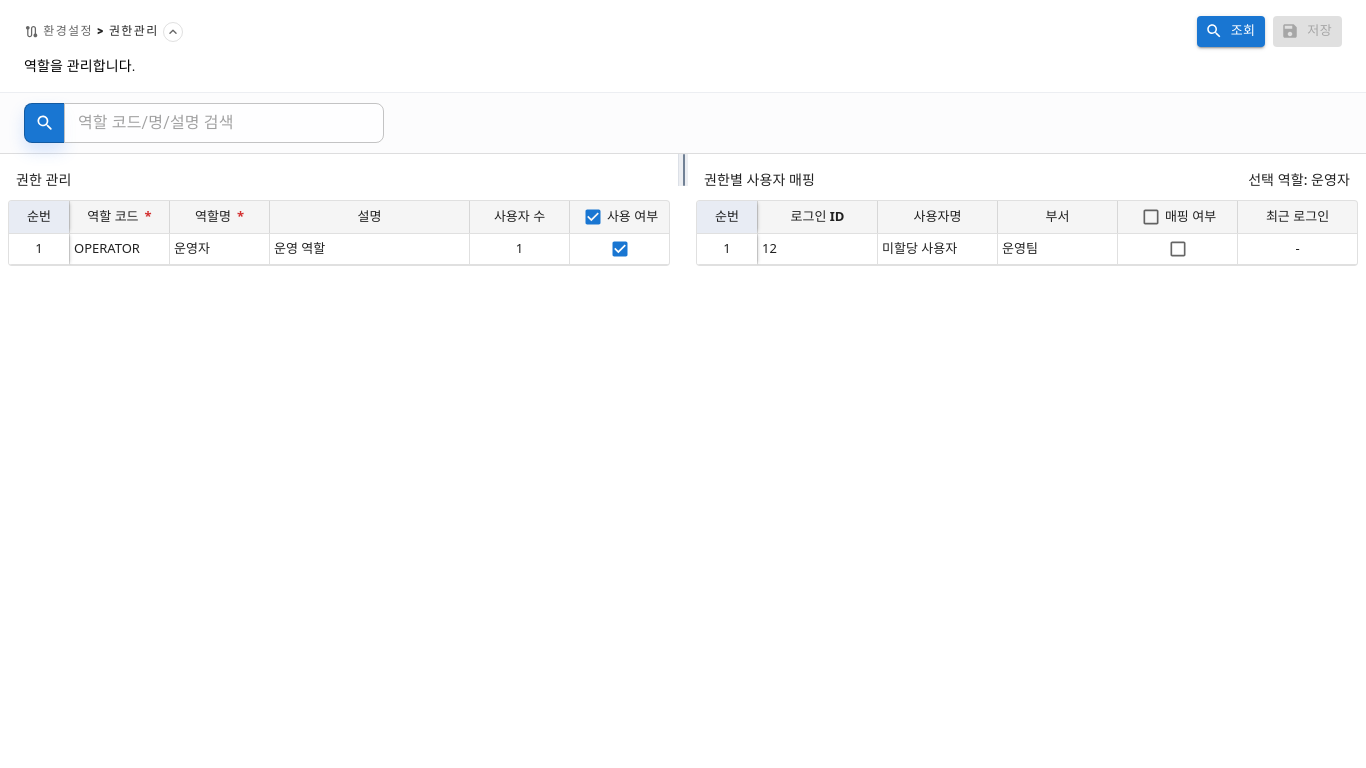
Test case: RoleManagementPage notifications › updates the role user count after a mapping save without showing a skeleton
Expected: the table named "F1-GRID 사용자 매핑" is shown, [696, 200, 1358, 266]
Double-click the cell "미할당 사용자" at (937, 249), box [877, 233, 997, 265]
Click the checkbox named "매핑 여부 12" at (1178, 249), box [1168, 239, 1188, 259]
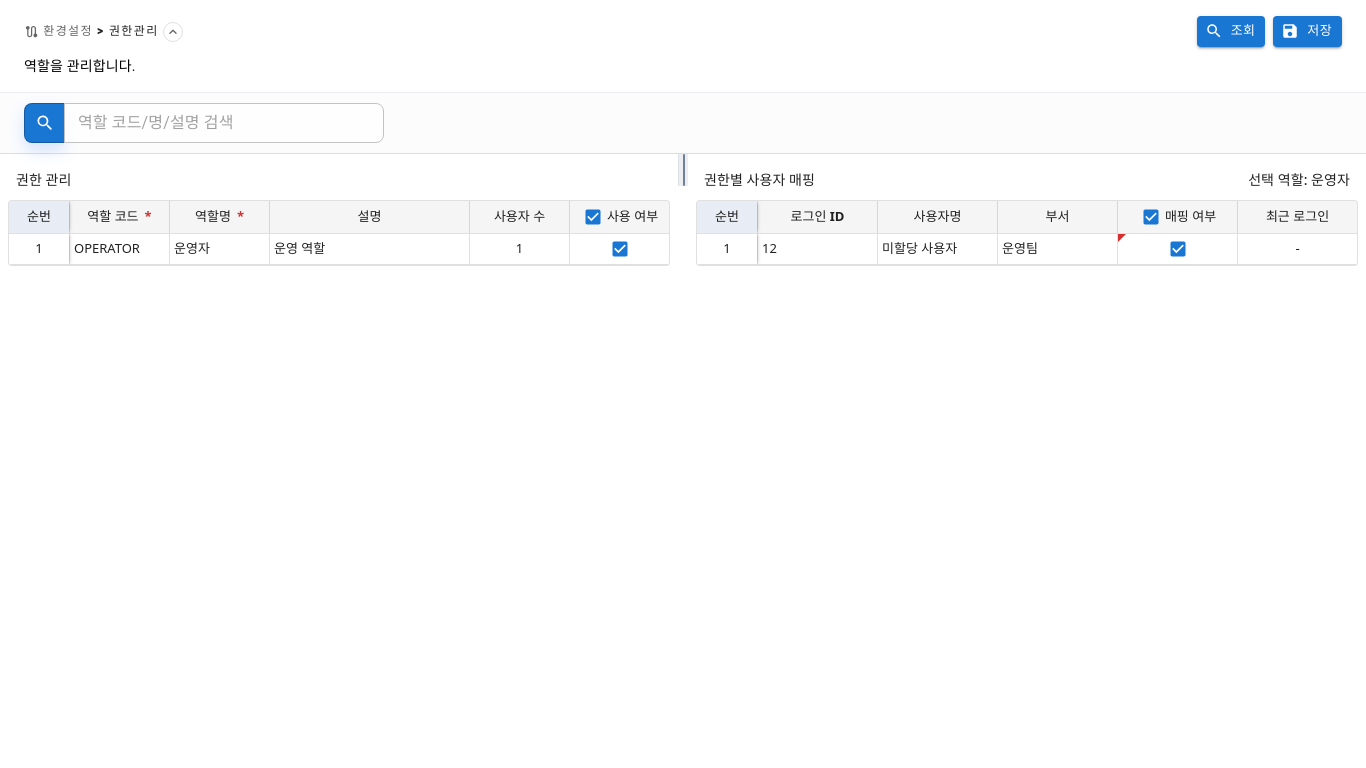
Click the button "저장" at (1308, 31), box [1273, 16, 1342, 47]
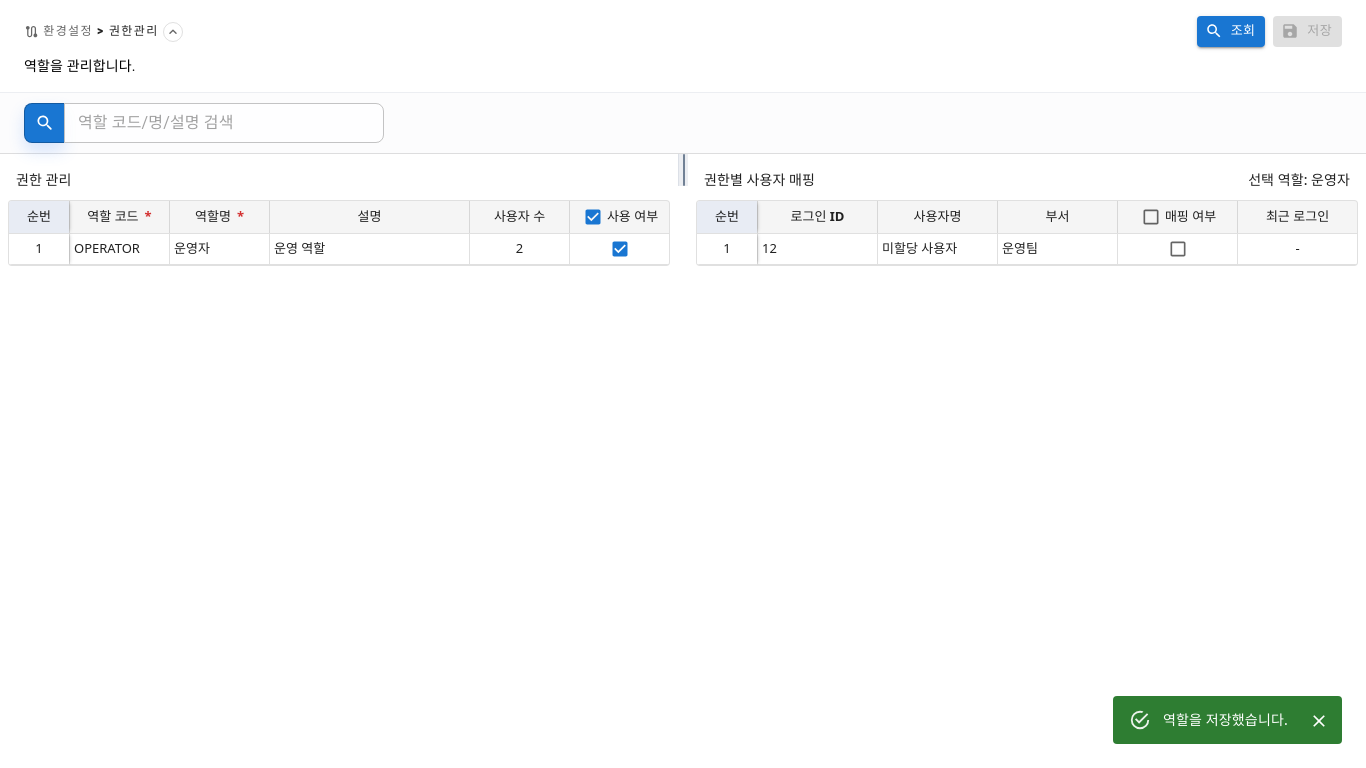
Now the cell "2" is shown, box [469, 233, 569, 265]
